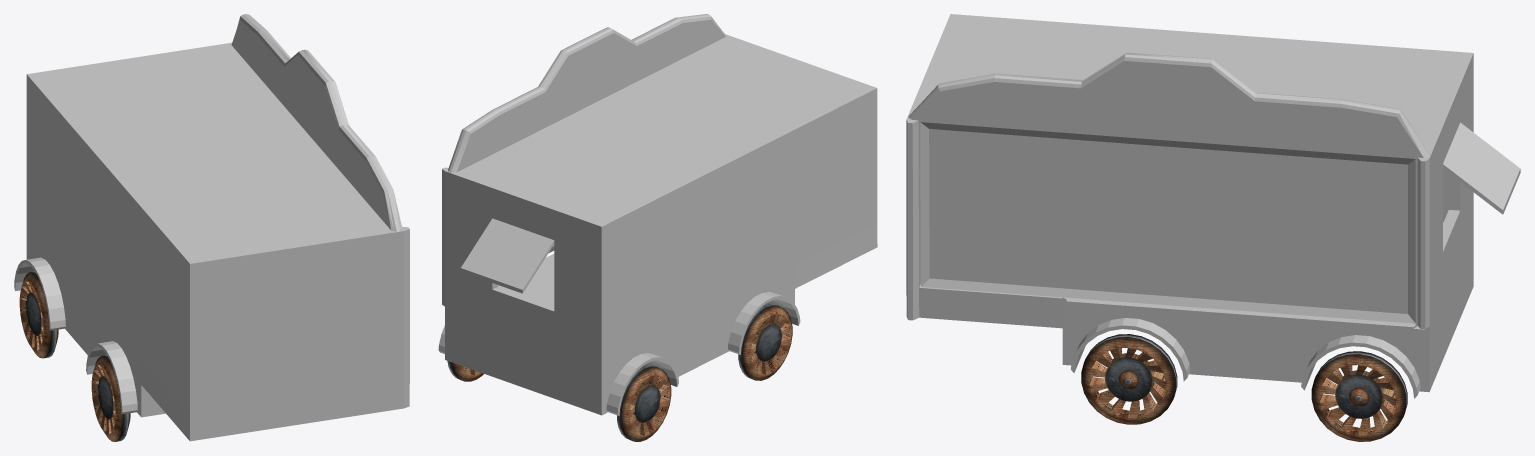
Rendered from Caravan02-Sealed.FBX.
The picture shows the model from 3 angles, left to right: view 1: azimuth 30°, elevation 25°; view 2: azimuth 150°, elevation 25°; view 3: azimuth 270°, elevation 25°; orthographic projection. The views are drawn at different scales.
Visible parts, largest first — view 1: 1, Torus005; view 2: 1, Torus005; view 3: 1, Torus004.
Part boxes in pixels (x1,y1,x2,y2): 1: [14, 14, 409, 441]; Torus005: [19, 271, 130, 441]; 1: [438, 14, 877, 415]; Torus005: [617, 304, 792, 441]; 1: [906, 14, 1520, 398]; Torus004: [1081, 334, 1407, 441].
Bounding box in the file's own units: 88.61 × 98.73 × 152.
